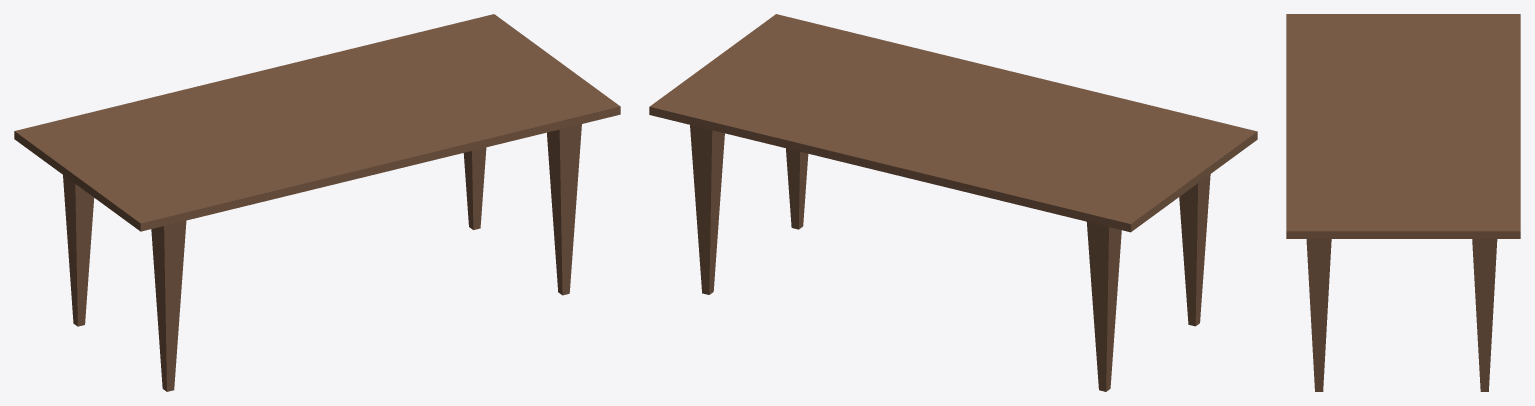
The model's file is Mesa_Salón.fbx.
The picture shows the model from 3 angles, left to right: view 1: azimuth 30°, elevation 25°; view 2: azimuth 150°, elevation 25°; view 3: azimuth 270°, elevation 25°; orthographic projection. The views are drawn at different scales.
Parts seen in each view (by area): view 1: Mesa; view 2: Mesa; view 3: Mesa.
Boxes of the visible parts, x1,y1,x2,y2 form: Mesa: (14, 14, 620, 391); Mesa: (649, 14, 1257, 391); Mesa: (1286, 14, 1520, 391).
Bounding box in the file's own units: 223 × 84.24 × 101.
